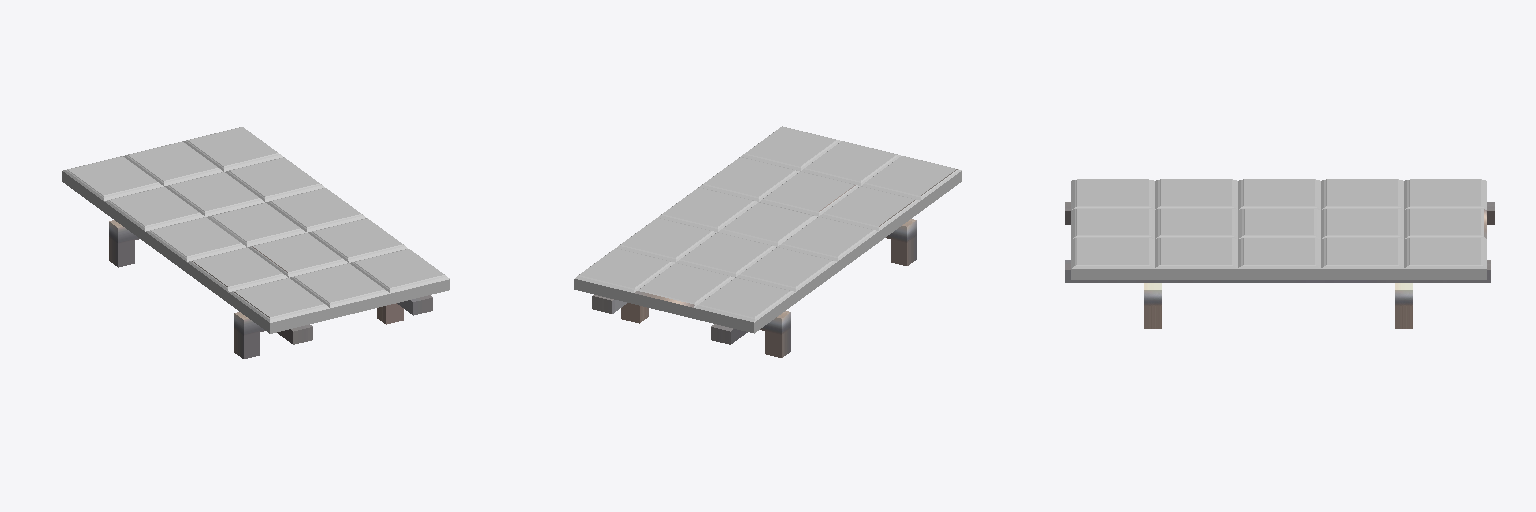
3 views of the same model, side by side, from view 1: azimuth 30°, elevation 25°; view 2: azimuth 150°, elevation 25°; view 3: azimuth 270°, elevation 25° (orthographic).
Parts seen in each view (by area): view 1: Cube.003; view 2: Cube.003; view 3: Cube.003.
Part boxes in pixels (bbox=[...]): Cube.003: bbox=[62, 127, 449, 358]; Cube.003: bbox=[574, 126, 961, 357]; Cube.003: bbox=[1065, 179, 1494, 328].
Bounding box in the file's own units: 2 × 0.7225 × 4.13.
2 materials, 1 textured.